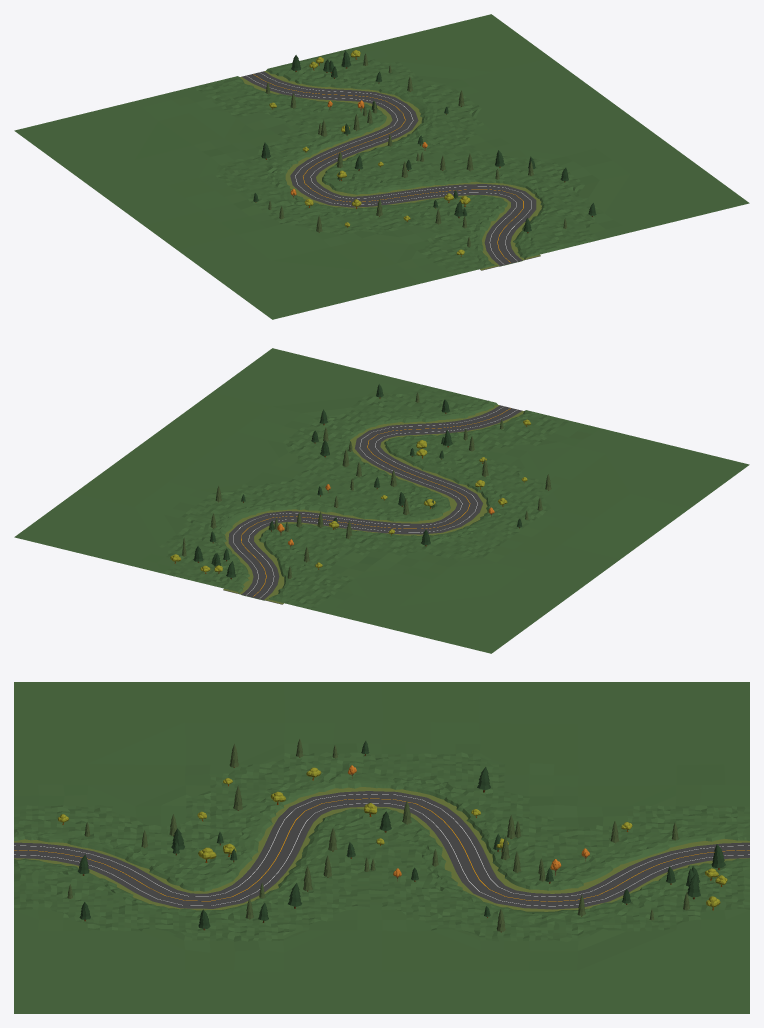
File: ForestRoadStraight5.fbx
3 views of the same model, one above another, from view 1: azimuth 30°, elevation 25°; view 2: azimuth 150°, elevation 25°; view 3: azimuth 270°, elevation 25° (orthographic). The views are drawn at different scales.
Visible parts, largest first — view 1: FRS5Plane, FRS5Road; view 2: FRS5Plane, FRS5Road; view 3: FRS5Plane, FRS5Road.
Boxes of the visible parts, x1,y1,x2,y2 form: FRS5Plane: (14, 14, 749, 319); FRS5Road: (240, 71, 541, 270); FRS5Plane: (14, 348, 749, 653); FRS5Road: (223, 405, 523, 604); FRS5Plane: (14, 682, 749, 1013); FRS5Road: (14, 787, 749, 911).
Size of what is drawn, in the model's own units: 64000 by 2672 by 60000.
